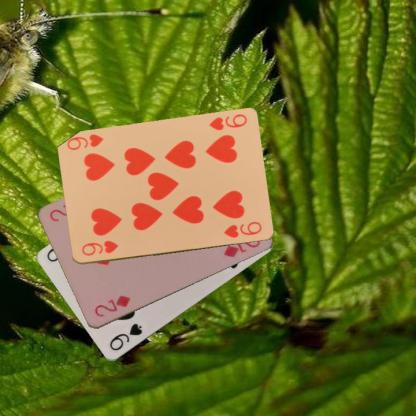2d: (92, 293, 132, 318)
9h: (206, 112, 248, 132), (79, 238, 119, 258)
9s: (106, 320, 144, 352)
